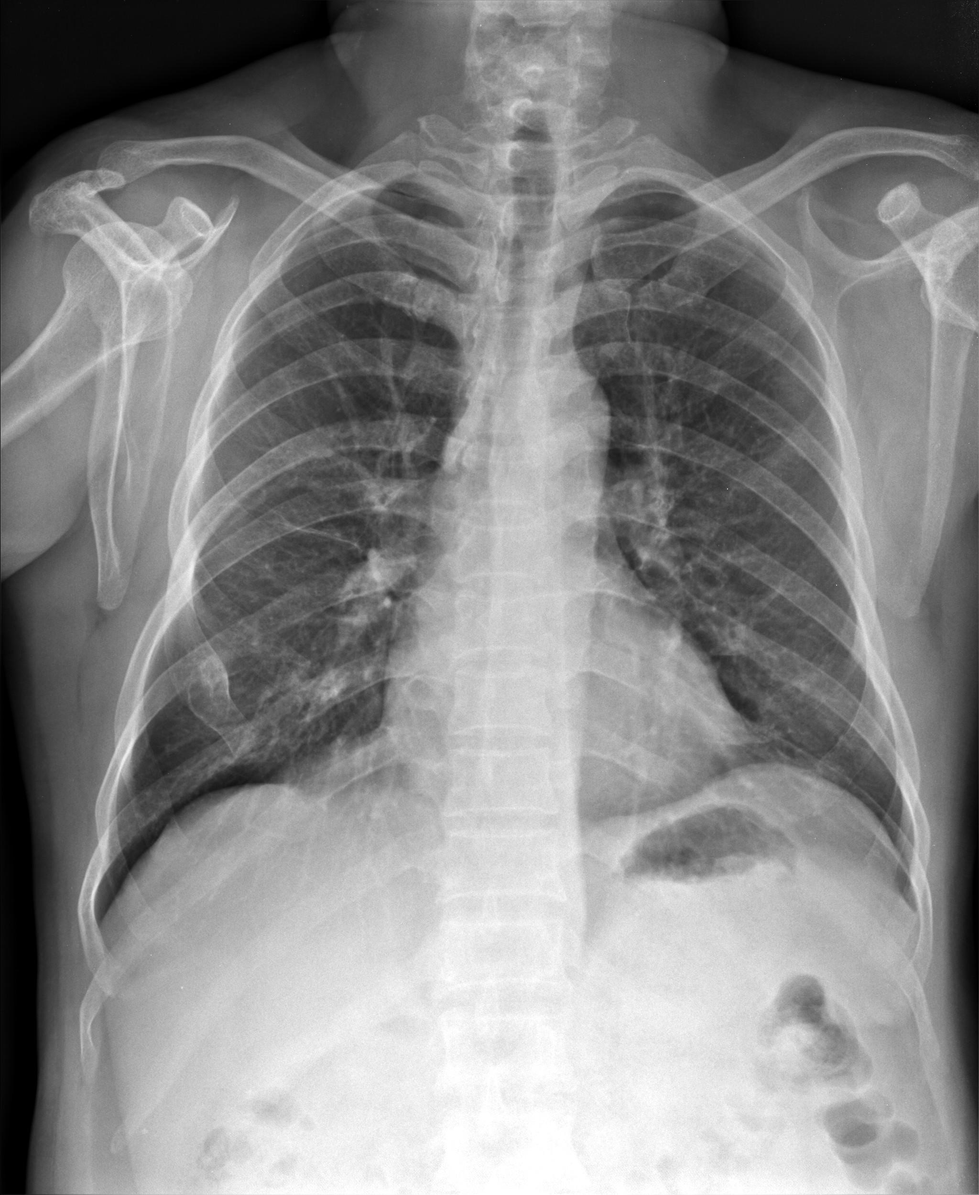Pleural thickening: (273, 194, 366, 254)
Pulmonary fibrosis: (270, 509, 362, 554)
